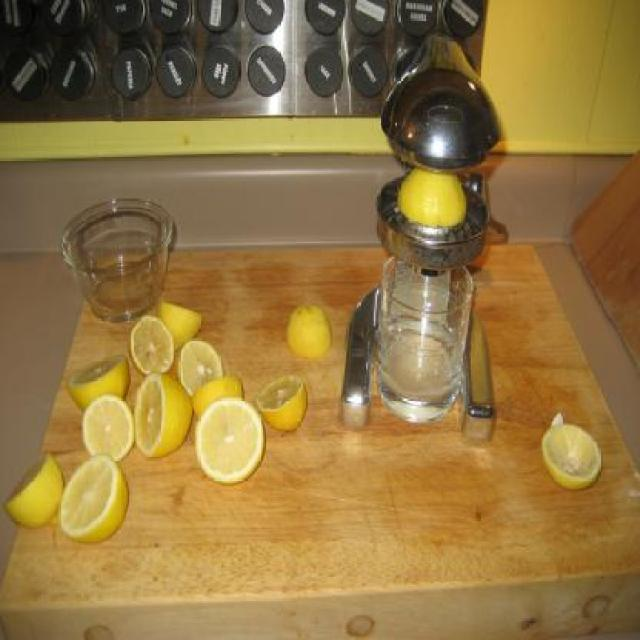Lemon: (6, 304, 306, 540), (51, 456, 124, 541), (544, 417, 600, 488), (402, 172, 464, 225), (254, 373, 308, 432), (284, 308, 330, 362)
